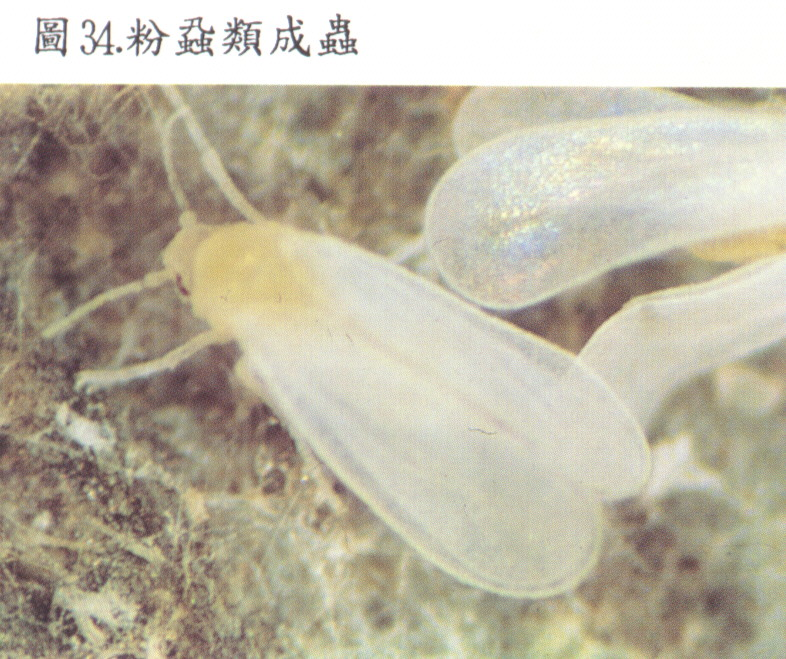whitefly: (47, 113, 658, 605)
